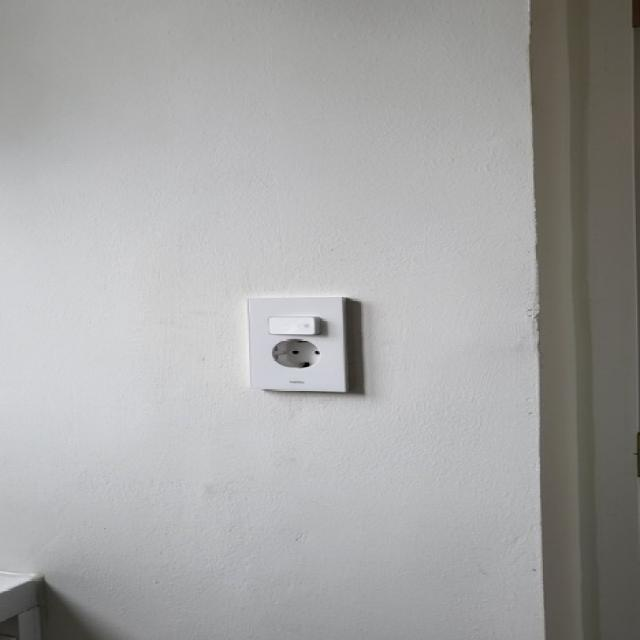typeb: (206, 264, 405, 434)
